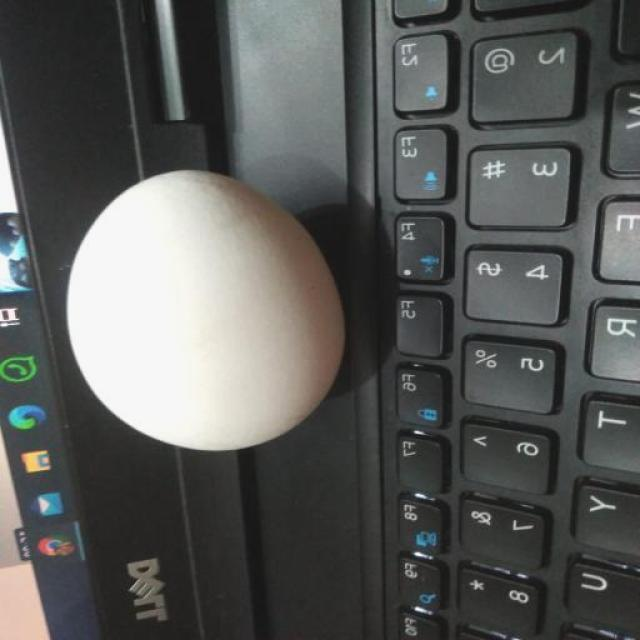telur: (66, 167, 346, 456)
